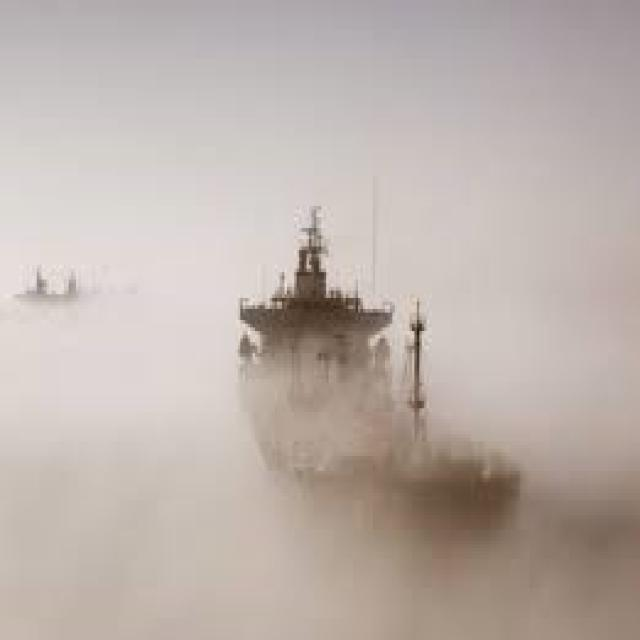cargoship: (227, 209, 515, 576), (17, 255, 142, 325)
